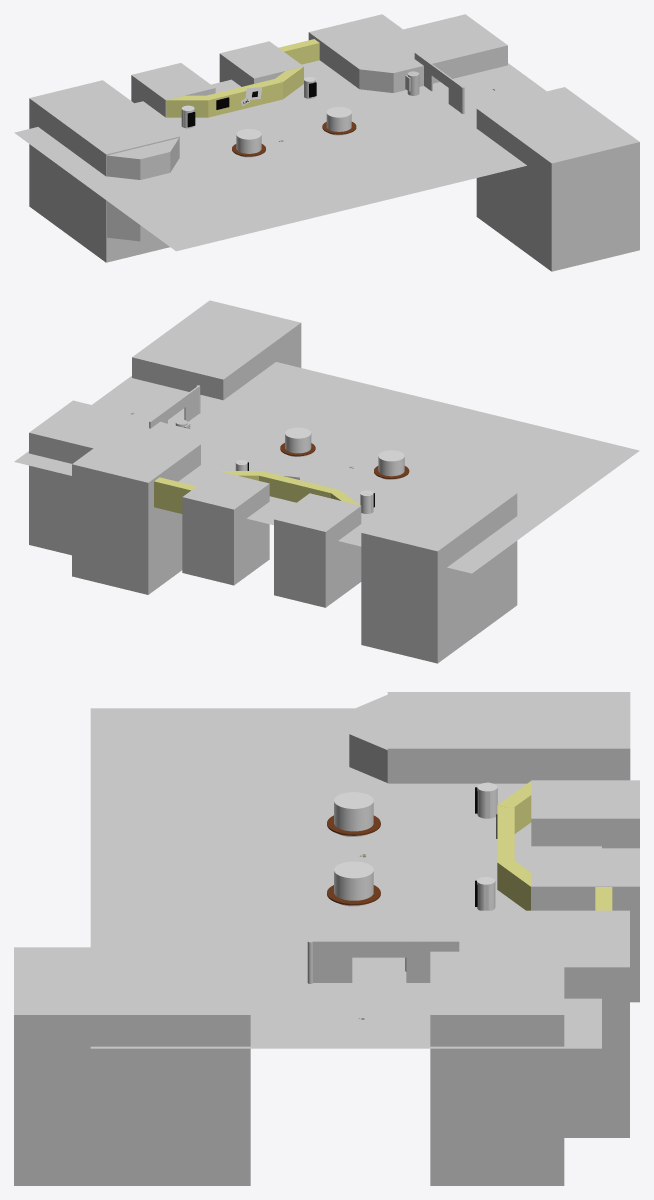
The model's file is Gullmarsplan (1).fbx.
3 views of the same model, one above another, from view 1: azimuth 30°, elevation 25°; view 2: azimuth 150°, elevation 25°; view 3: azimuth 270°, elevation 25° (orthographic). The views are drawn at different scales.
Visible parts, largest first — view 1: Plane, Cube.016, Cube.009, Cube.002, Cube.008, Cube.010, Cylinder.003, Cylinder.002, Cube, Cube.001, Cube.017, Cylinder.004 (+2 smaller); view 2: Plane, Cube.009, Cube.002, Cube.008, Cube.016, Cube.010, Cube, Cube.017, Cylinder.004, Cylinder.005, Cylinder.003, Cube.013; view 3: Plane, Cube.016, Cube.010, Cube.009, Cube.008, Cube.002, Cylinder.003, Cube.013, Cube.001, Cylinder.005, Cylinder.004, Cube.012 (+2 smaller).
Part boxes in pixels (<box>): Plane: <box>14,60,546,251</box>; Cube.016: <box>476,87,639,271</box>; Cube.009: <box>29,80,179,262</box>; Cube.002: <box>131,41,303,117</box>; Cube.008: <box>308,14,432,89</box>; Cube.010: <box>379,14,507,86</box>; Cylinder.003: <box>107,138,178,241</box>; Cylinder.002: <box>360,58,419,92</box>; Cube: <box>207,79,282,117</box>; Cube.001: <box>166,66,303,117</box>; Cube.017: <box>278,39,319,64</box>; Cylinder.004: <box>326,107,351,135</box>; Plane: <box>14,362,639,573</box>; Cube.009: <box>361,474,517,663</box>; Cube.002: <box>182,471,361,607</box>; Cube.008: <box>72,425,200,594</box>; Cube.016: <box>132,300,301,400</box>; Cube.010: <box>29,400,164,555</box>; Cube: <box>259,471,338,502</box>; Cube.017: <box>154,477,196,513</box>; Cylinder.004: <box>285,427,311,456</box>; Cylinder.005: <box>378,450,404,479</box>; Cylinder.003: <box>446,472,515,492</box>; Cube.013: <box>149,386,198,428</box>; Plane: <box>90,708,601,1048</box>; Cube.016: <box>14,947,250,1185</box>; Cube.010: <box>430,947,564,1185</box>; Cube.009: <box>387,692,630,783</box>; Cube.008: <box>469,910,629,1137</box>; Cube.002: <box>531,780,639,1002</box>; Cylinder.003: <box>349,695,387,782</box>; Cube.013: <box>313,940,459,957</box>; Cube.001: <box>497,781,531,910</box>; Cylinder.005: <box>334,792,373,836</box>; Cylinder.004: <box>334,861,373,906</box>; Cube.012: <box>313,957,352,982</box>.
Size of the model in its own units: 9443 by 2341 by 7345.
Materials: 8 (3 with a texture image).
